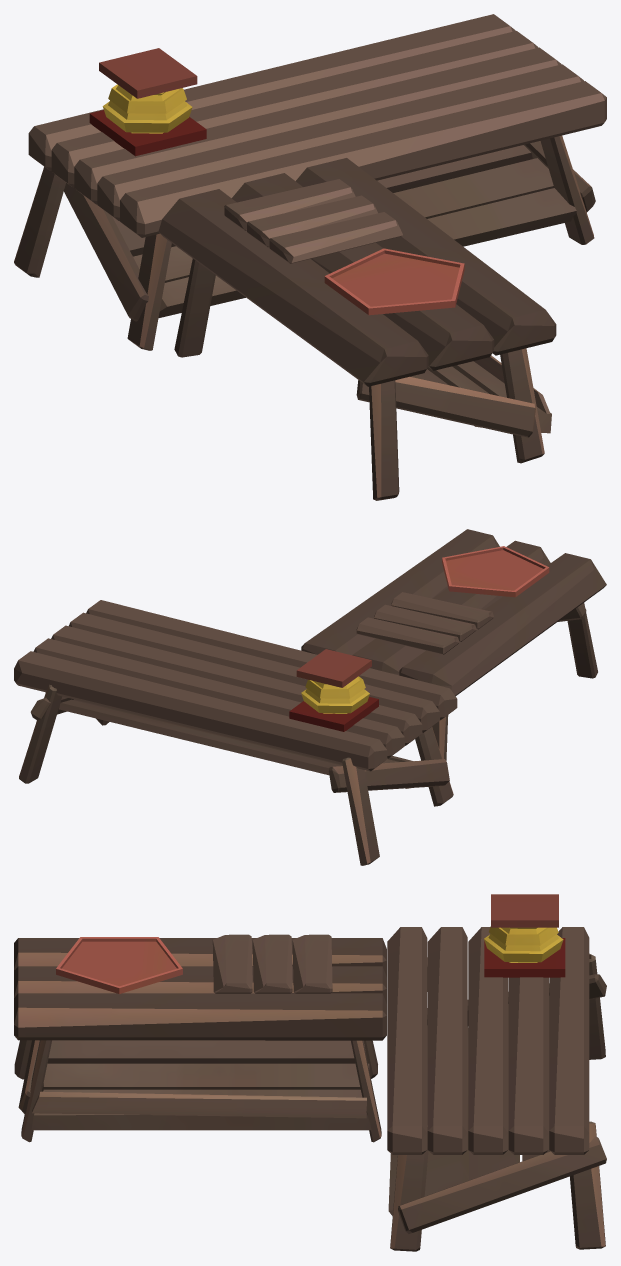
The model's file is shop_0lvl.fbx.
3 renders of one model, top to bottom at view 1: azimuth 30°, elevation 25°; view 2: azimuth 150°, elevation 25°; view 3: azimuth 270°, elevation 25°, orthographic. The views are drawn at different scales.
Parts seen in each view (by area): view 1: shop_0lvl; view 2: shop_0lvl; view 3: shop_0lvl.
Part boxes in pixels (<box>): shop_0lvl: <box>14,14,606,500</box>; shop_0lvl: <box>14,529,606,865</box>; shop_0lvl: <box>14,894,606,1251</box>.
Bounding box in the file's own units: 3 × 1.28 × 3.65.
